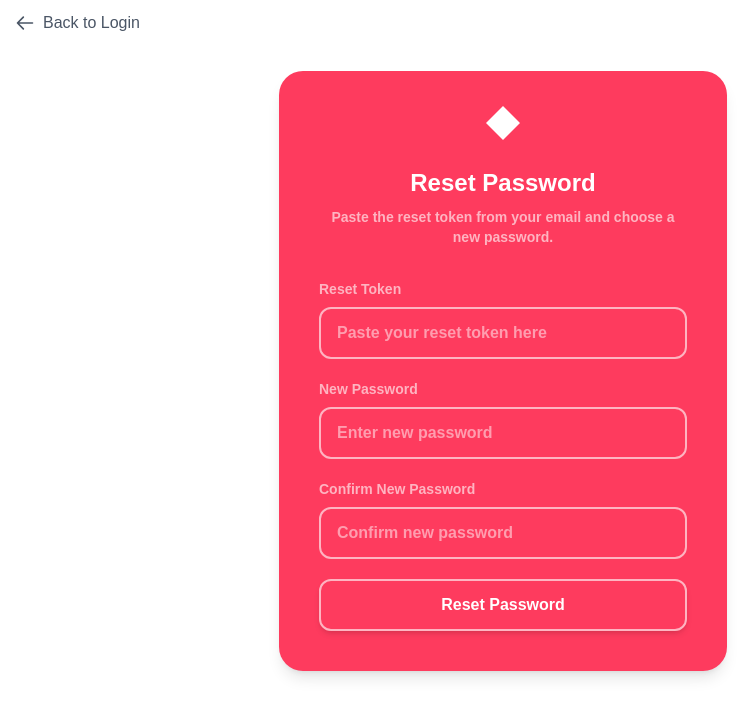
it: ResetPasswordPage › TC-100 [S-01]: shows a generic error message when the request fails outright
The width and height of the screenshot is (744, 717).
Type "  abc123token  " into the field labelled "Reset Token" at (503, 333), box [319, 307, 687, 359]
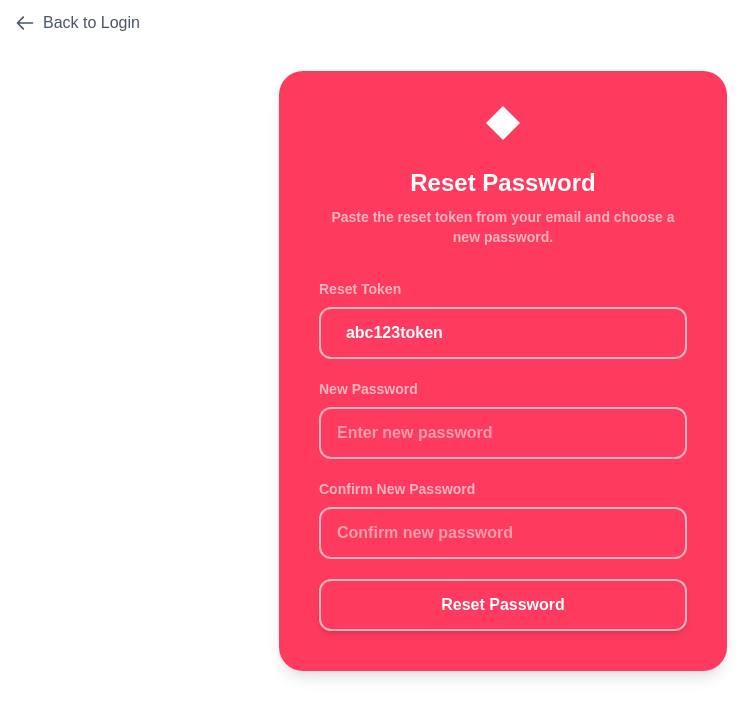
Type "NewValid123!" into the password field labelled "New Password" at (503, 433), box [319, 407, 687, 459]
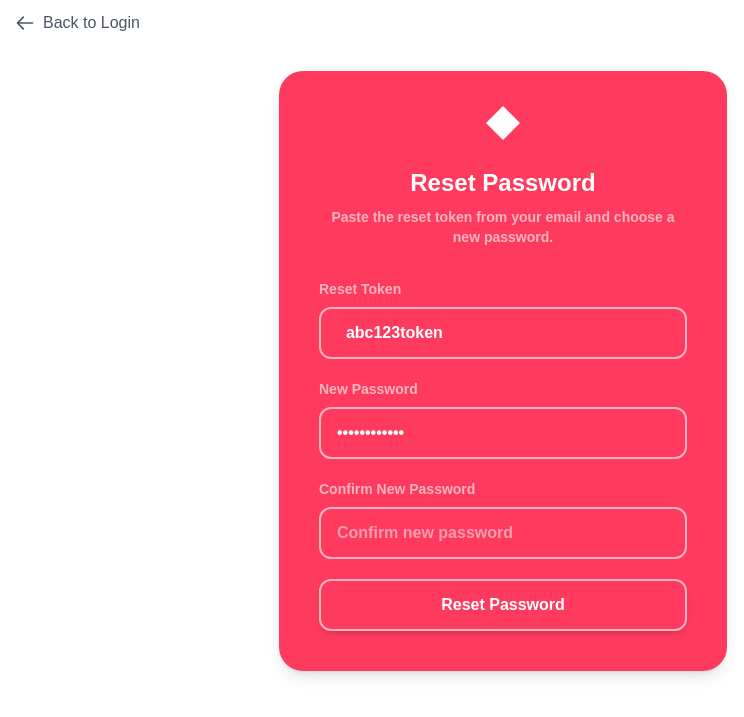
Type "NewValid123!" into the password field labelled "Confirm New Password" at (503, 533), box [319, 507, 687, 559]
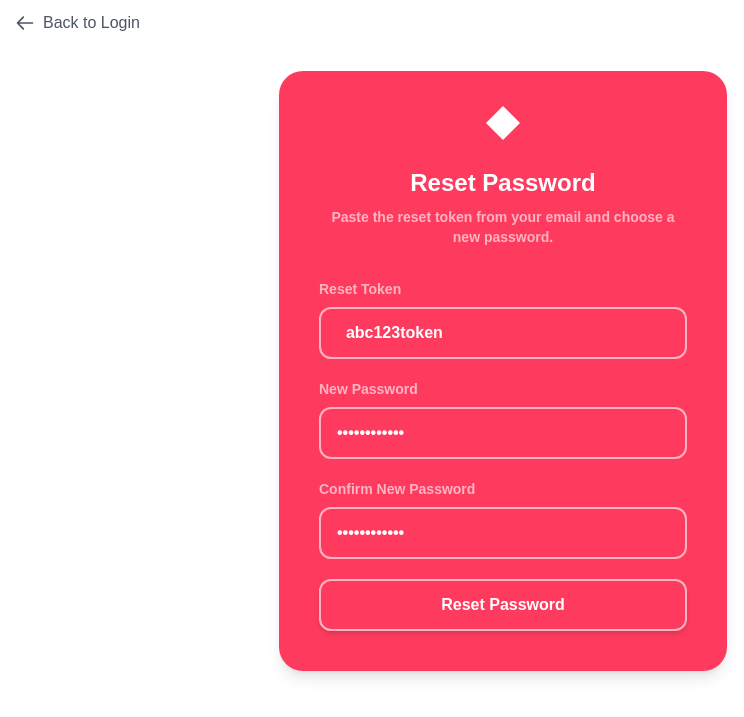
Click the button "Reset Password" at (503, 605), box [319, 579, 687, 631]
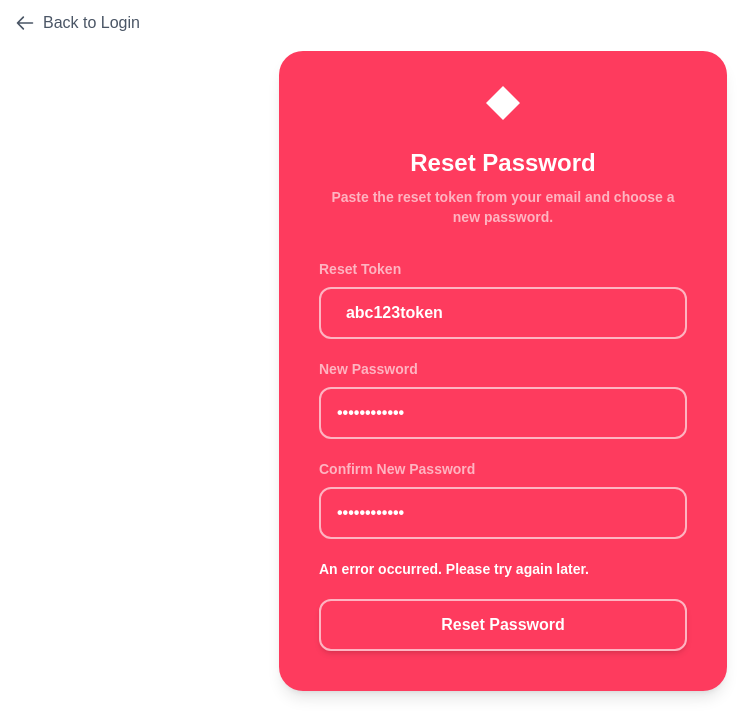
Now the text "An error occurred. Please try again later." is shown, box [319, 561, 589, 577]
